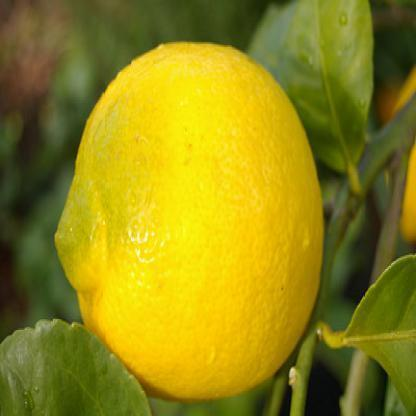lemon: (53, 39, 325, 402)
